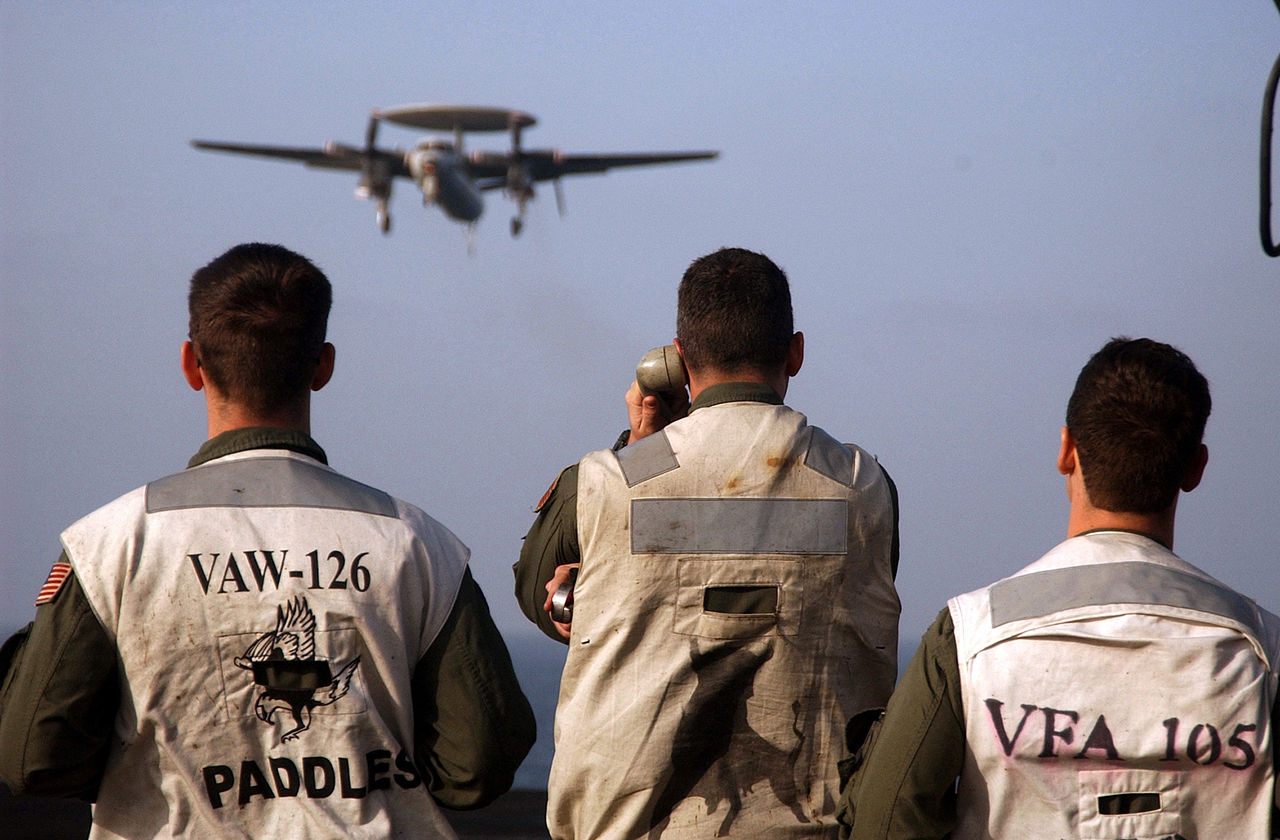E2: (188, 103, 723, 259)
